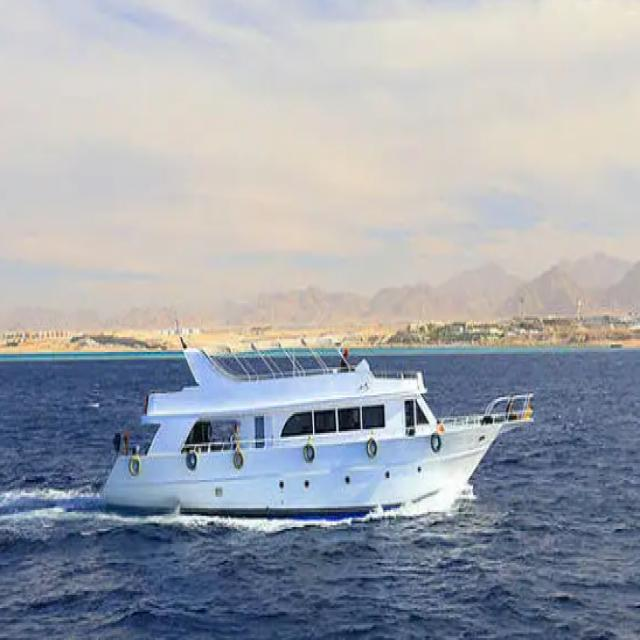houseboat: (96, 309, 538, 549)
